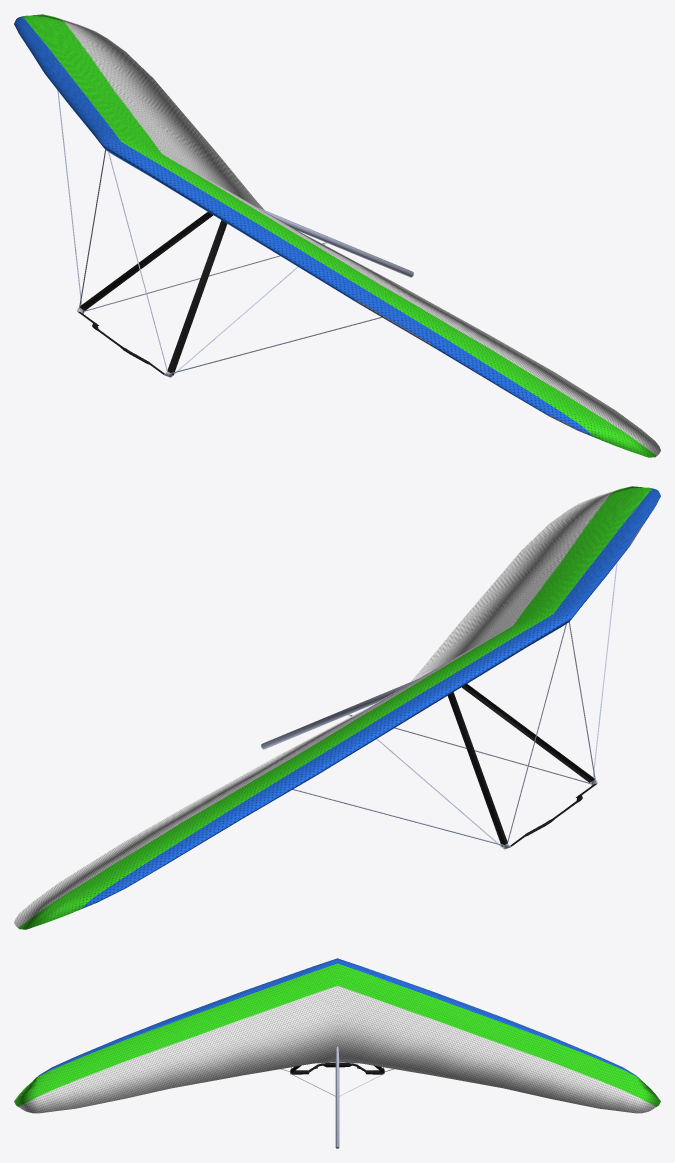
The model's file is hang-glider-green-launch-cbj_LOD00.gltf.
3 renders of one model, top to bottom at view 1: azimuth 30°, elevation 25°; view 2: azimuth 150°, elevation 25°; view 3: azimuth 270°, elevation 25°, orthographic. The views are drawn at different scales.
Parts seen in each view (by area): view 1: hang-glider01; view 2: hang-glider01; view 3: hang-glider01.
Boxes of the visible parts, left/top/right/bottom form: hang-glider01: left=14, top=14, right=660, bottom=457; hang-glider01: left=14, top=486, right=660, bottom=929; hang-glider01: left=14, top=958, right=660, bottom=1148.
Bounding box in the file's own units: 2.97 × 1.9 × 10.05.
